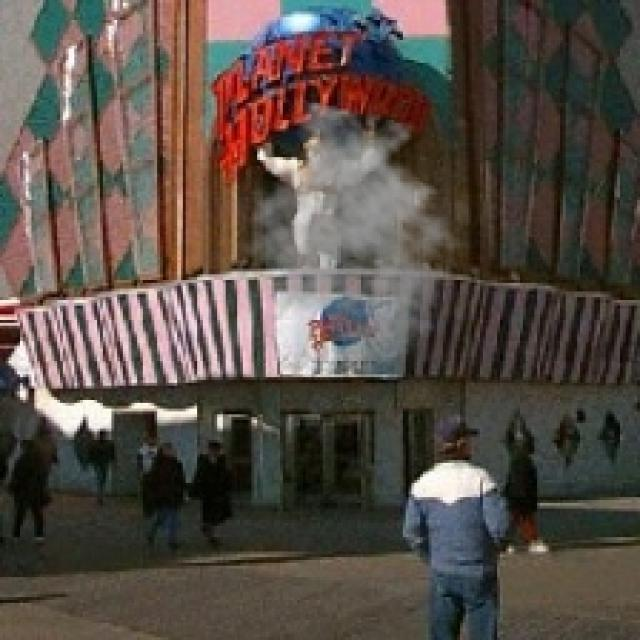Smoke: (240, 100, 474, 360)
